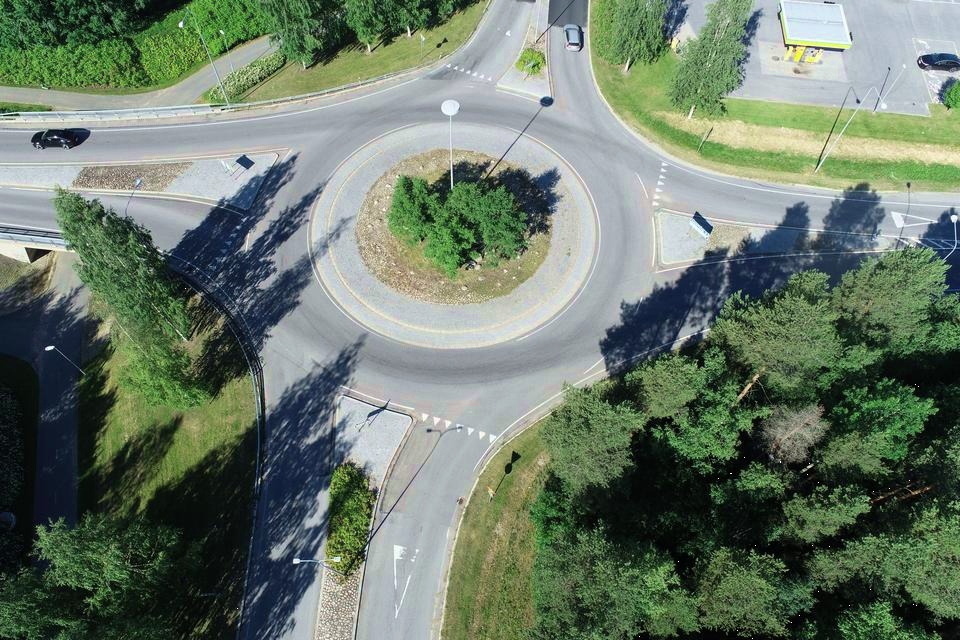roundabout: (224, 50, 738, 490)
